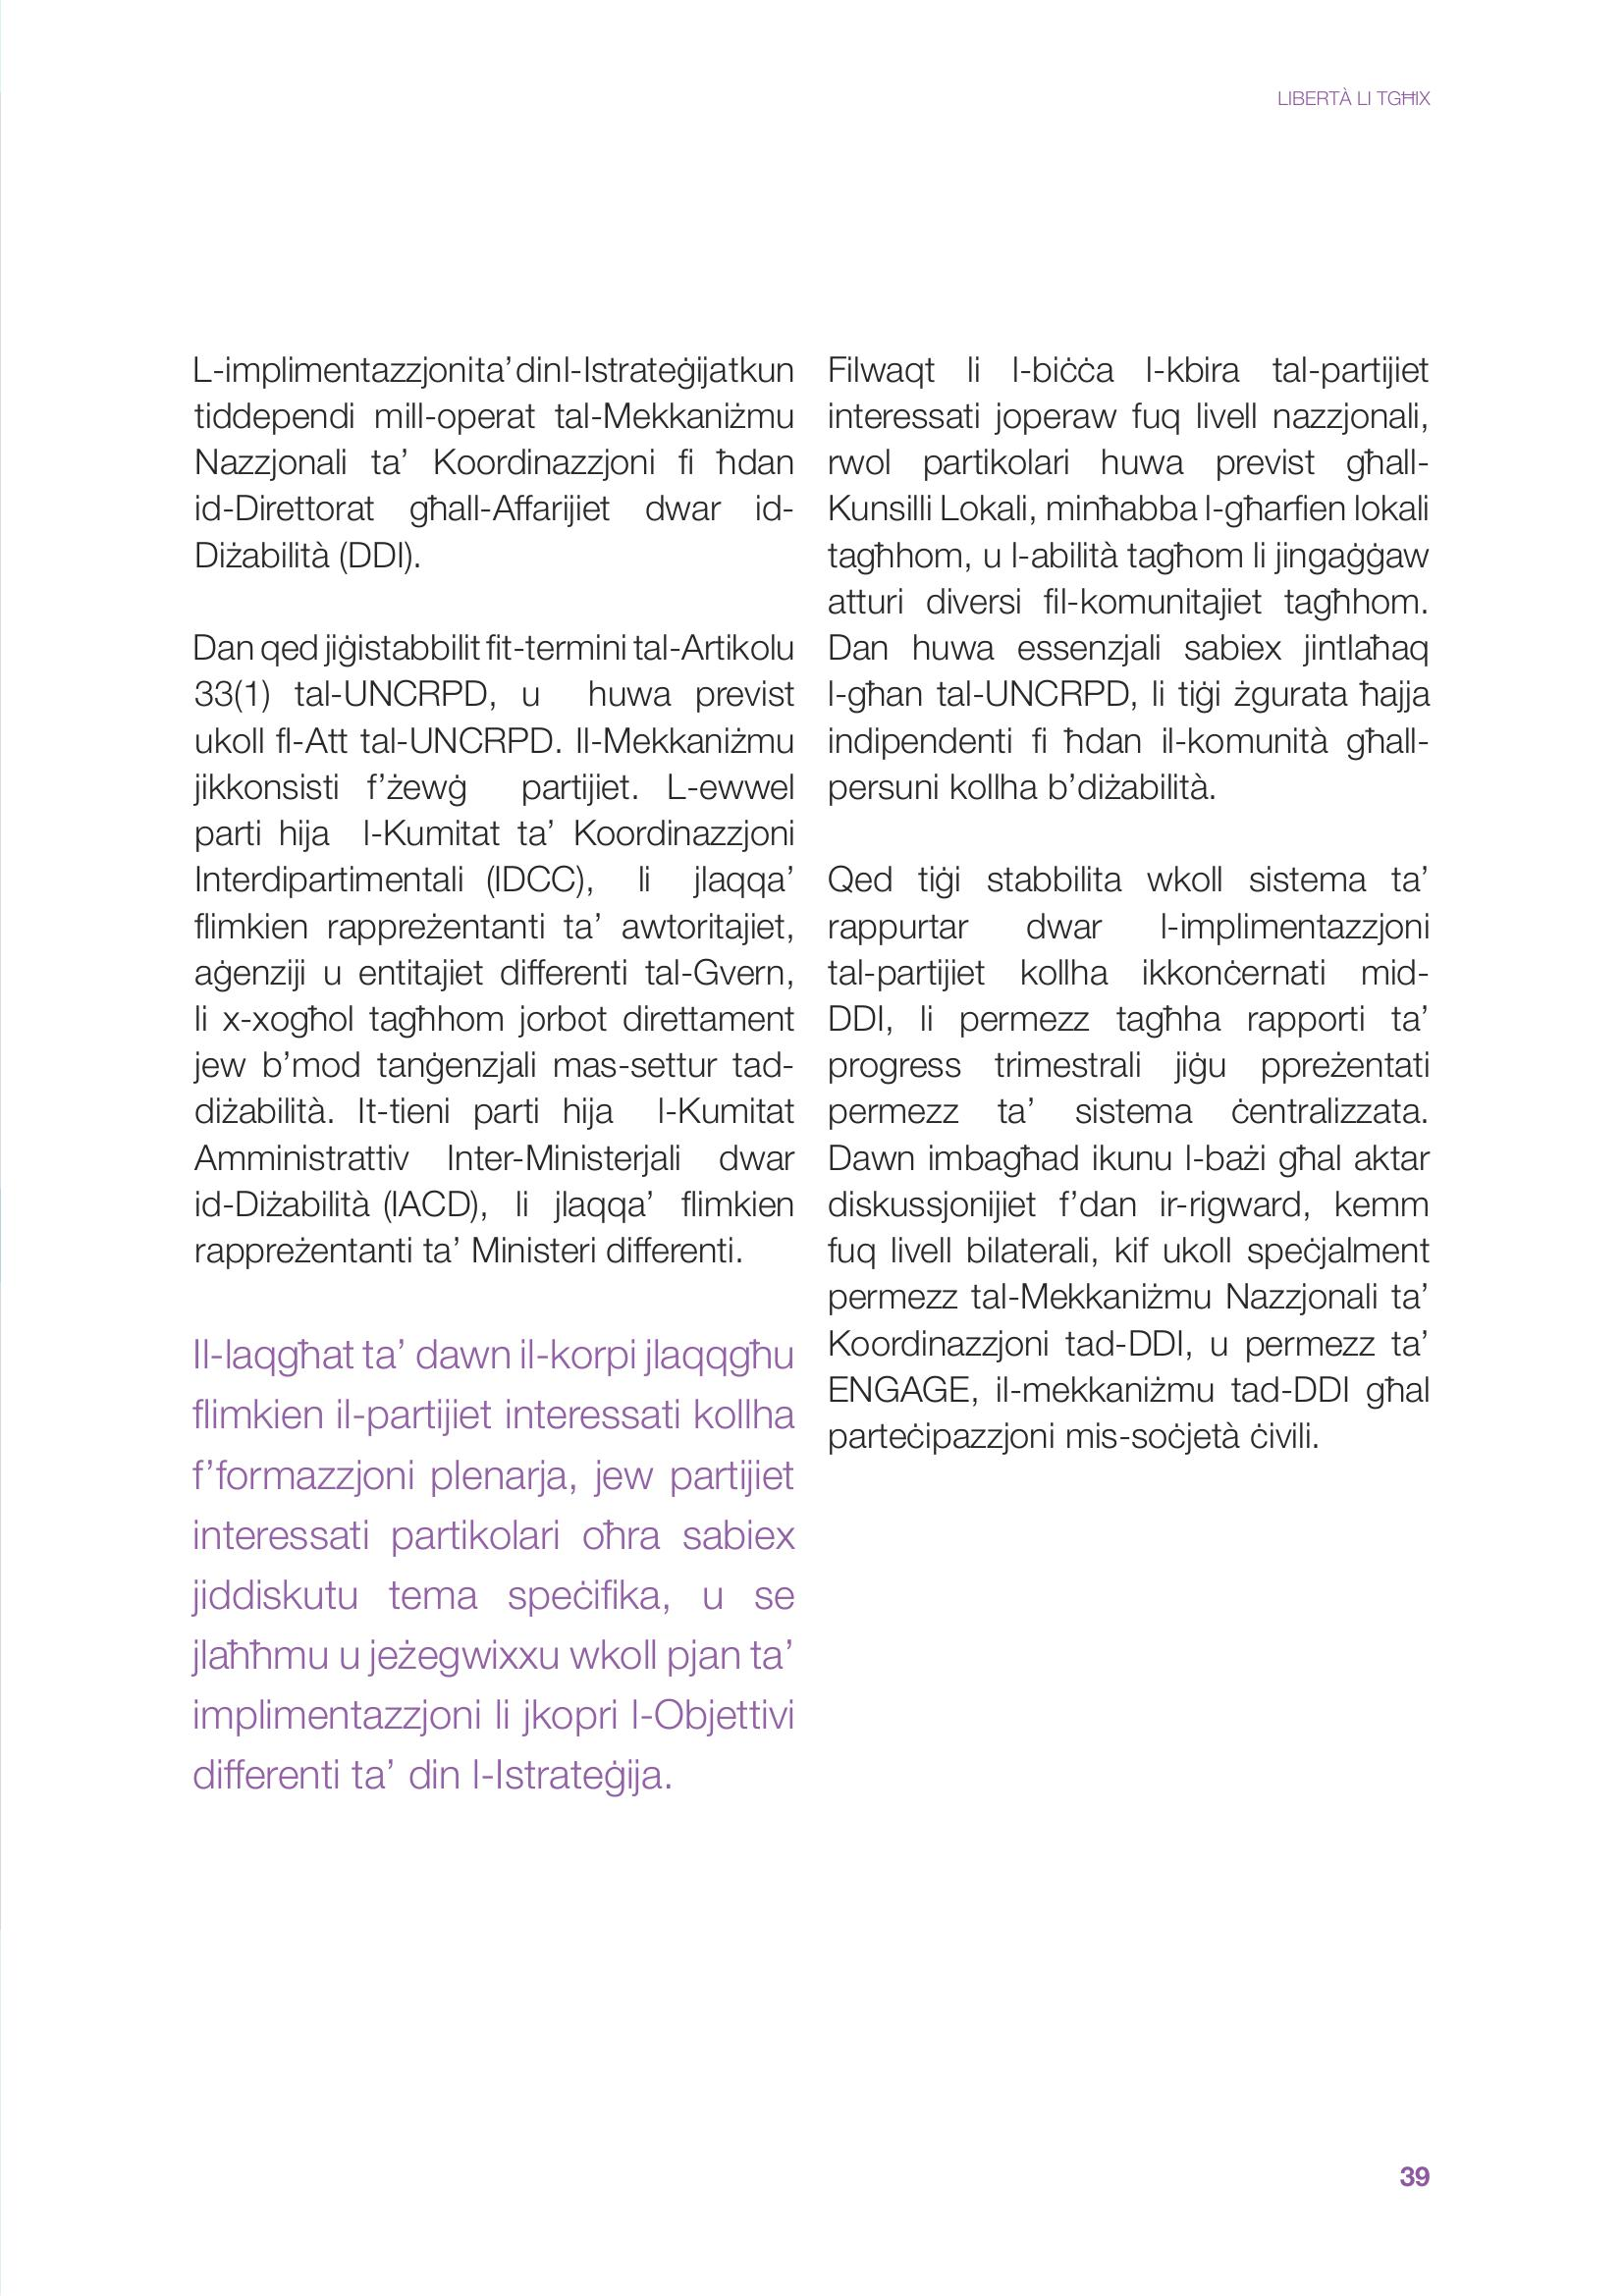text: (170, 336, 801, 1830), (814, 330, 1455, 1484)
